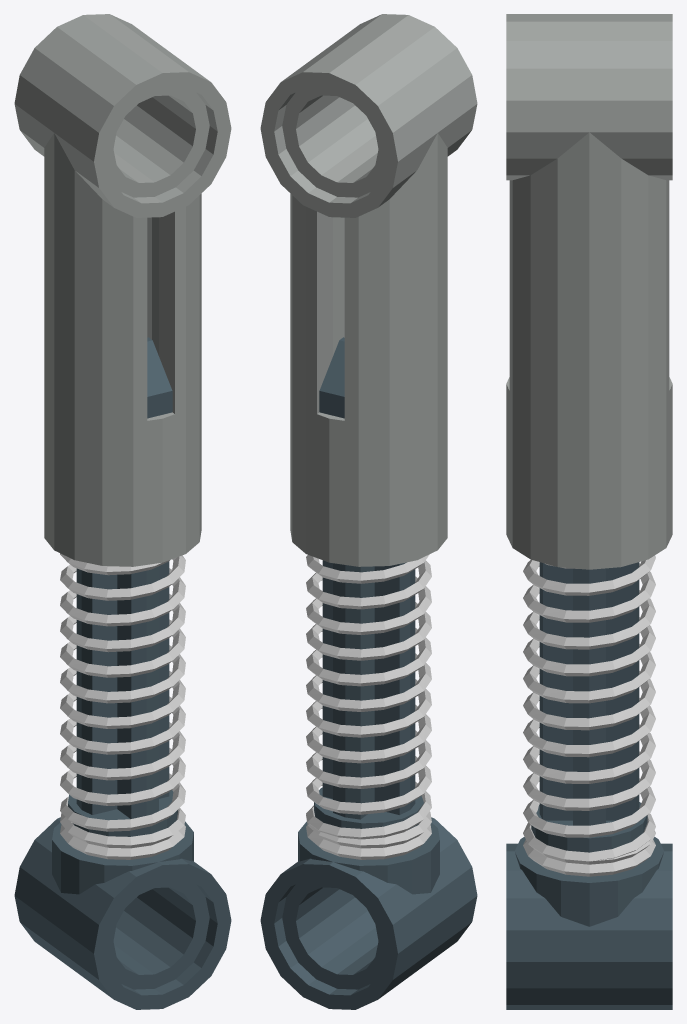
3 renders of one model, left to right at view 1: azimuth 30°, elevation 25°; view 2: azimuth 150°, elevation 25°; view 3: azimuth 270°, elevation 25°, orthographic. The views are drawn at different scales.
Parts seen in each view (by area): view 1: world; view 2: world; view 3: world.
Boxes of the visible parts, x1,y1,x2,y2 form: world: (14,14,231,1009); world: (260,14,477,1009); world: (506,14,672,1009).
Size of the model in its own units: 0.008 by 0.052 by 0.008.
